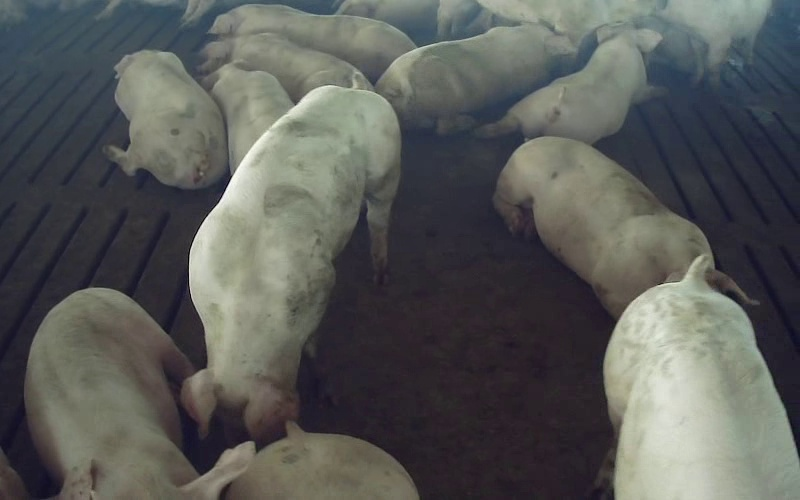pig: (182, 86, 400, 443), (25, 290, 255, 499), (604, 255, 799, 499), (476, 24, 661, 143), (375, 24, 575, 133), (103, 50, 227, 188), (209, 5, 415, 82), (198, 33, 373, 102), (202, 61, 293, 173)
